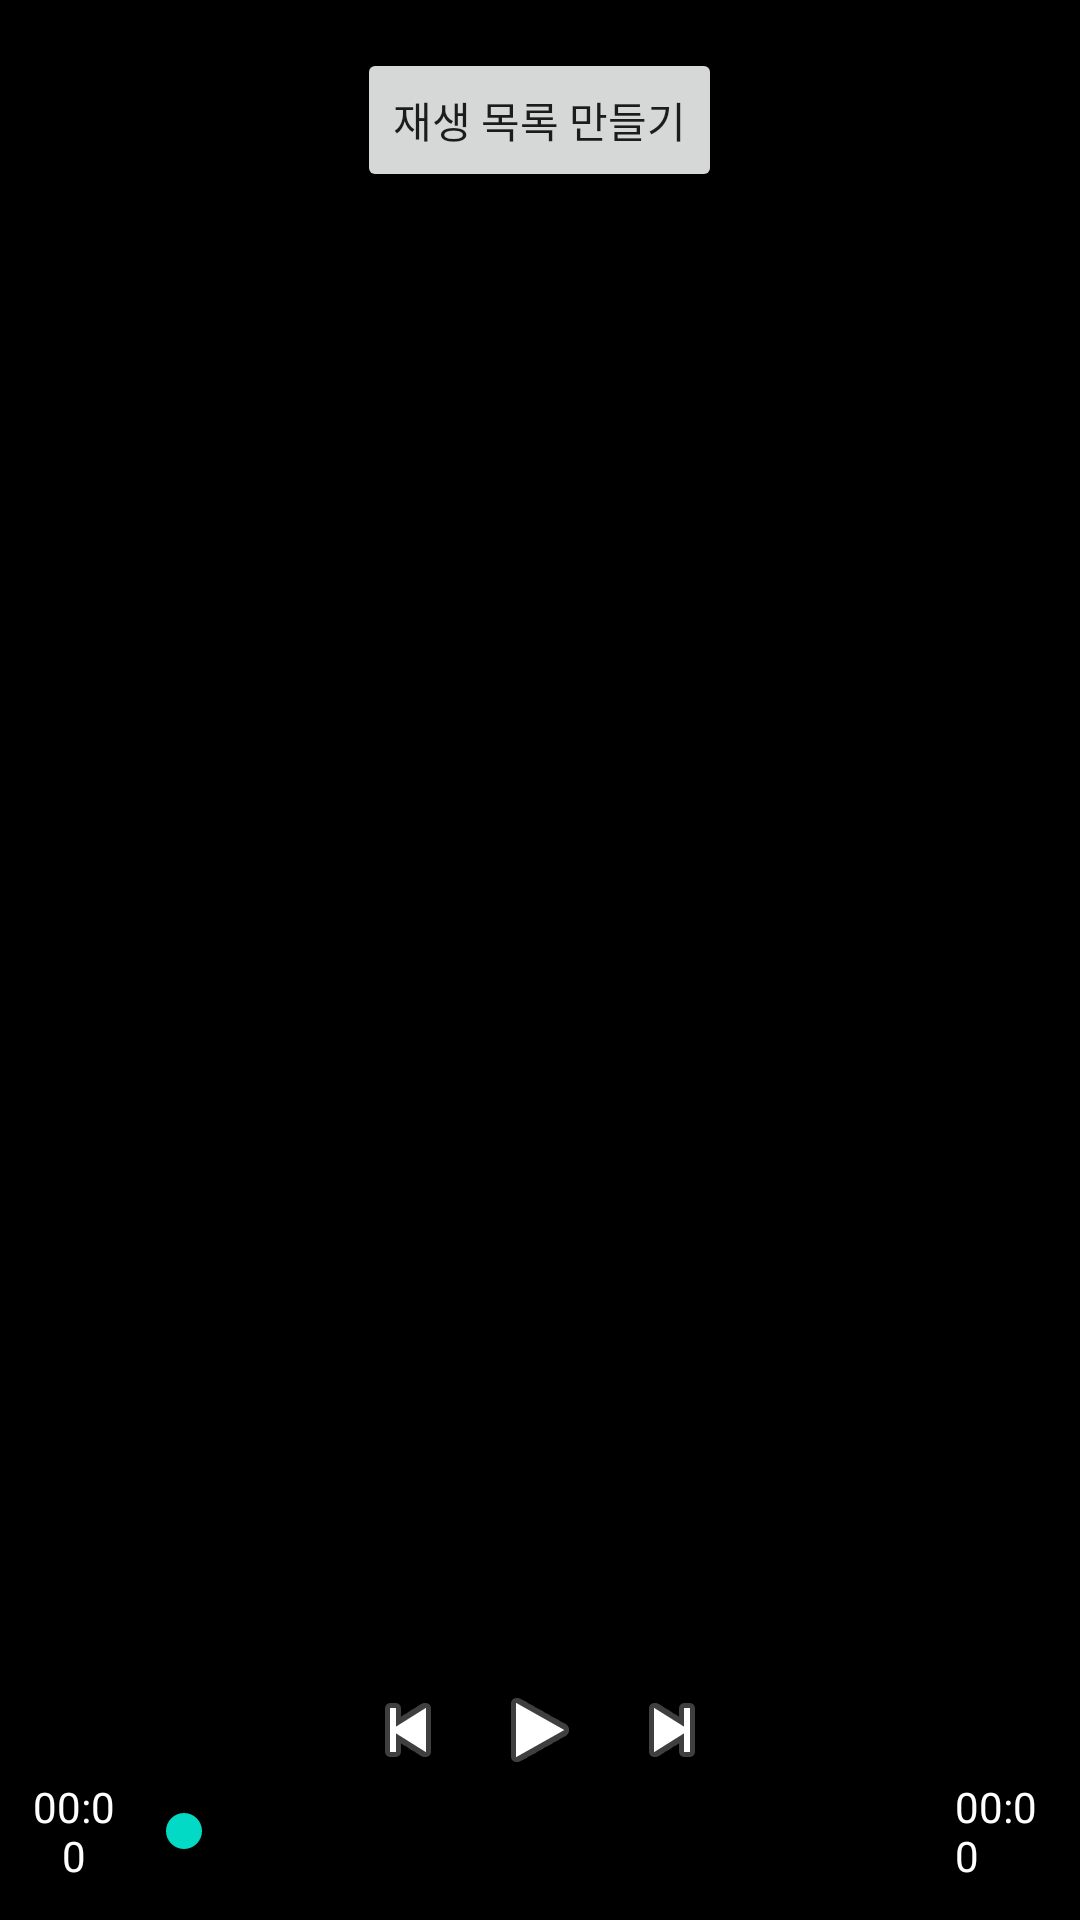

Icon click points for this 1080*1920 phone screenshot, format (x=x, y=y):
next: (x=672, y=1730)
play: (x=540, y=1730)
previous: (x=408, y=1730)
